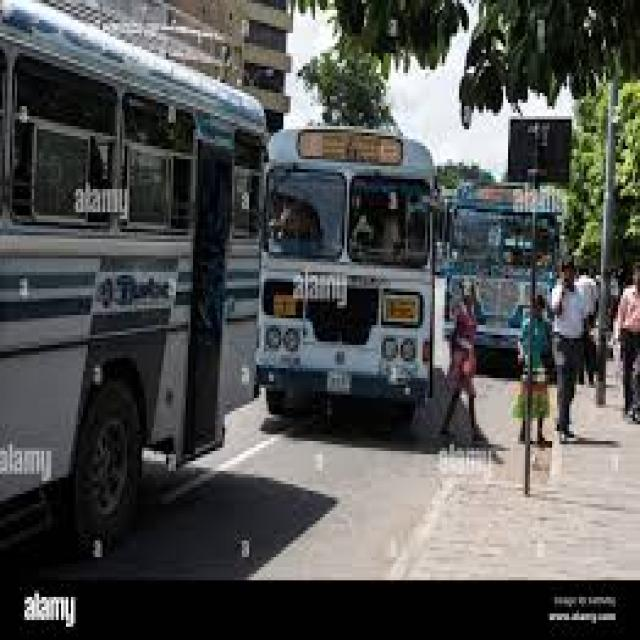bus: (383, 169, 560, 447)
person: (14, 336, 85, 560)
